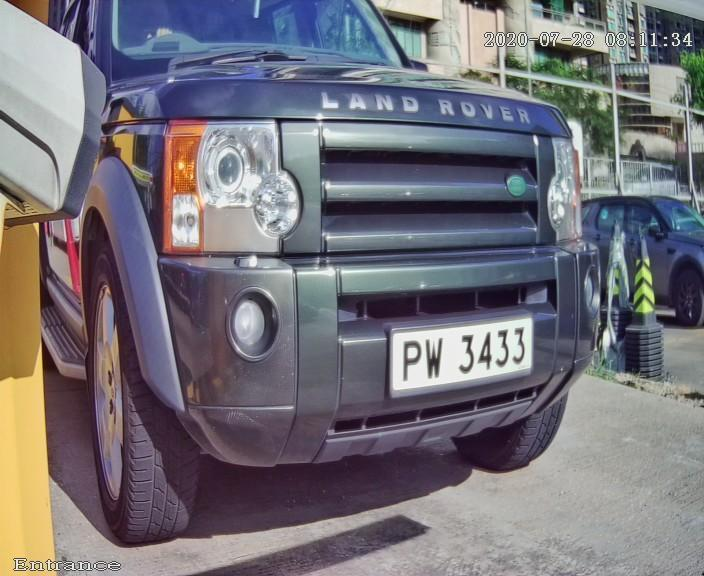privatecar: (26, 16, 648, 559)
